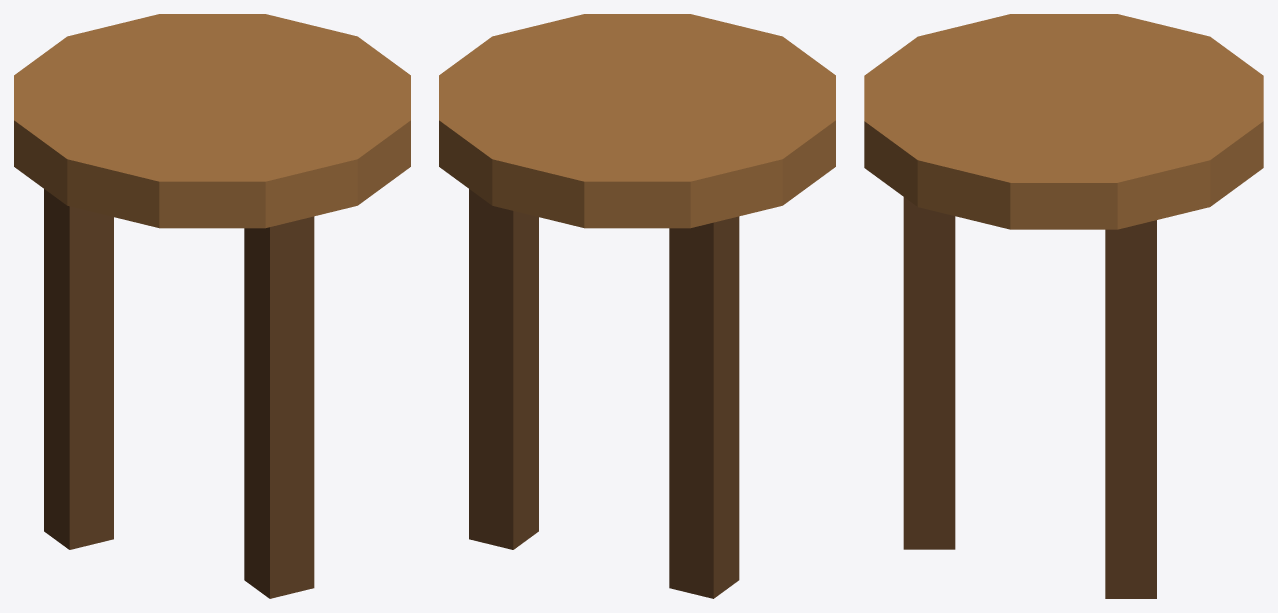
File: stool.glb
3 renders of one model, left to right at view 1: azimuth 30°, elevation 25°; view 2: azimuth 150°, elevation 25°; view 3: azimuth 270°, elevation 25°, orthographic.
Parts seen in each view (by area): view 1: stool; view 2: stool; view 3: stool.
Part boxes in pixels (x1,y1,x2,y2): stool: (14,14,410,598); stool: (439,14,835,598); stool: (864,14,1263,598).
Size of the model in its own units: 0.3864 by 0.47 by 0.3864.
